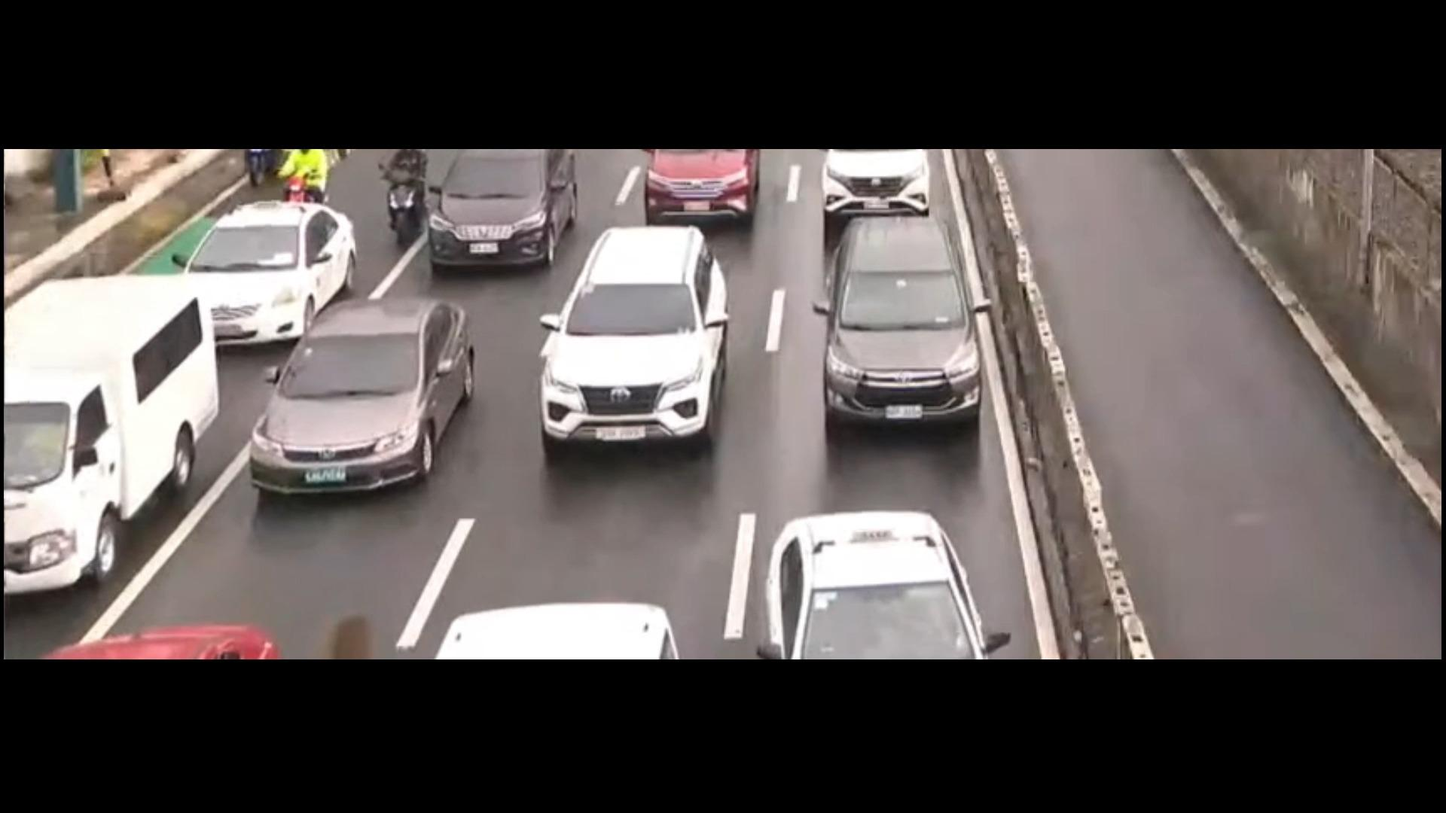Motorcycle: (375, 151, 431, 260), (273, 141, 335, 215)
Multicab: (0, 279, 211, 587)
SUV: (542, 235, 734, 450), (815, 215, 973, 433), (424, 149, 576, 277), (806, 151, 936, 237), (655, 152, 755, 226)
Sedan: (245, 295, 474, 504), (757, 508, 1004, 668), (179, 199, 358, 354)
